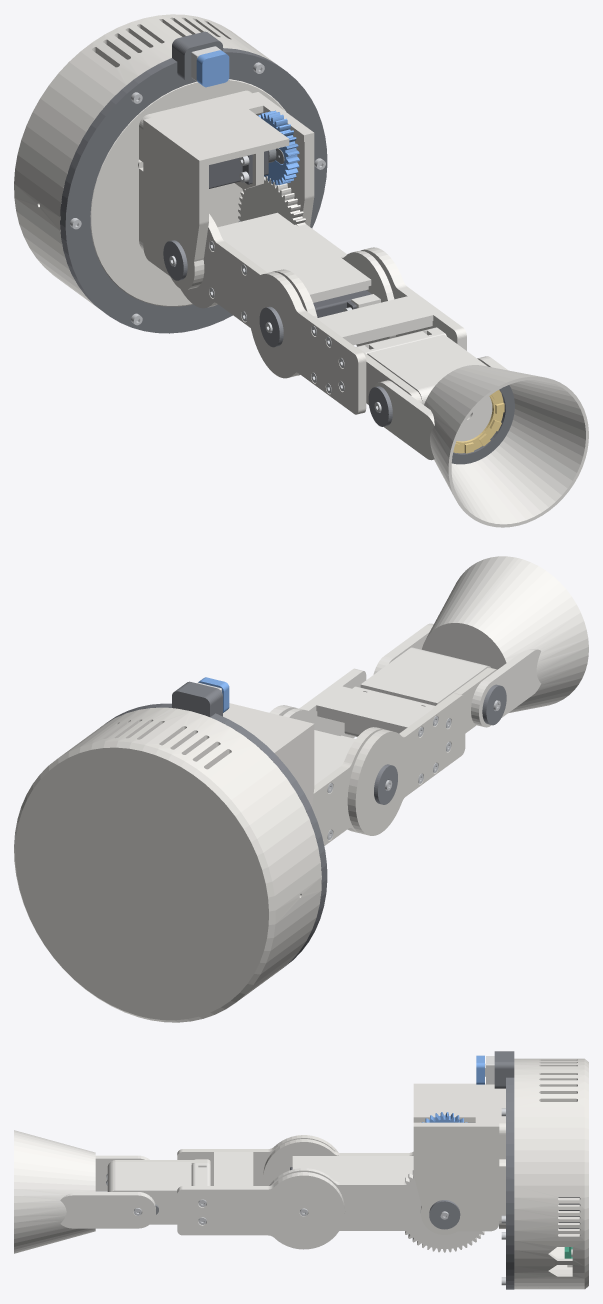
The model's file is hotaru3.glb.
3 views of the same model, one above another, from view 1: azimuth 30°, elevation 25°; view 2: azimuth 150°, elevation 25°; view 3: azimuth 270°, elevation 25° (orthographic). The views are drawn at different scales.
Visible parts, largest first — view 1: shade, tower, tub, lipring, link1, disc, link2-cover, link2, link1-cover, head, pinion, ledclamp (+8 smaller); view 2: tub, shade, link2-cover, head, link2, tower, lipring, link1-cover, link1, head-cover, pin-head, pin-elbow; view 3: tub, tower, shade, link2, link1, head, lipring, link1-cover, link2-cover, pin-shoulder-A.
Boxes of the visible parts, x1,y1,x2,y2 form: shade: (374, 356, 588, 527); tower: (139, 90, 314, 290); tub: (14, 14, 276, 309); lipring: (60, 31, 327, 333); link1: (217, 176, 395, 346); disc: (90, 79, 285, 306); link2-cover: (248, 272, 366, 414); link2: (317, 247, 466, 350); link1-cover: (180, 214, 317, 375); head: (357, 327, 487, 404); pinion: (258, 110, 299, 185); ledclamp: (451, 385, 514, 464); tub: (14, 707, 321, 1022); shade: (373, 556, 588, 727); link2-cover: (347, 693, 465, 835); head: (344, 647, 490, 736); link2: (269, 668, 432, 739); tower: (223, 703, 314, 806); lipring: (105, 681, 327, 967); link1-cover: (312, 727, 384, 845); link1: (283, 708, 354, 785); head-cover: (432, 667, 497, 733); pin-head: (482, 684, 506, 725); pin-elbow: (374, 764, 397, 804); tub: (514, 1058, 588, 1289); tower: (413, 1083, 505, 1234); shade: (14, 1130, 155, 1253); link2: (177, 1152, 344, 1249); link1: (269, 1156, 484, 1252); head: (107, 1162, 210, 1224); lipring: (494, 1051, 514, 1289); link1-cover: (263, 1139, 413, 1185); link2-cover: (177, 1135, 338, 1185); pin-shoulder-A: (429, 1200, 460, 1229).
Size of the model in its own units: 164 by 174 by 408.
